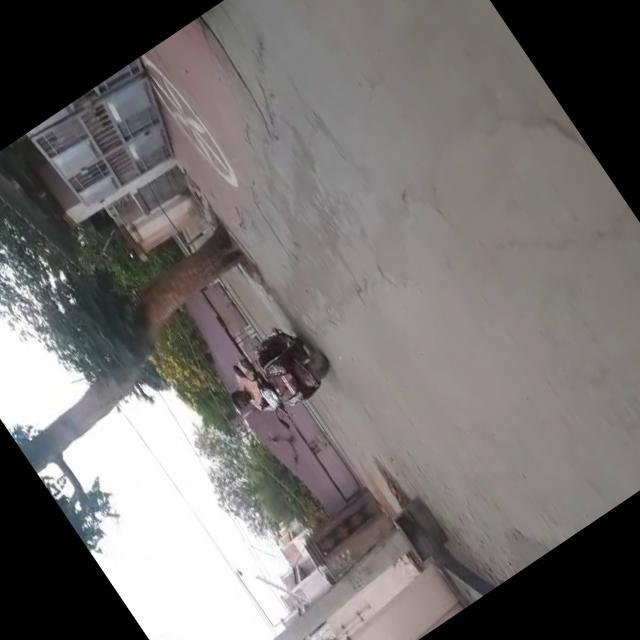USING_MOBILE: (224, 376, 272, 426)
